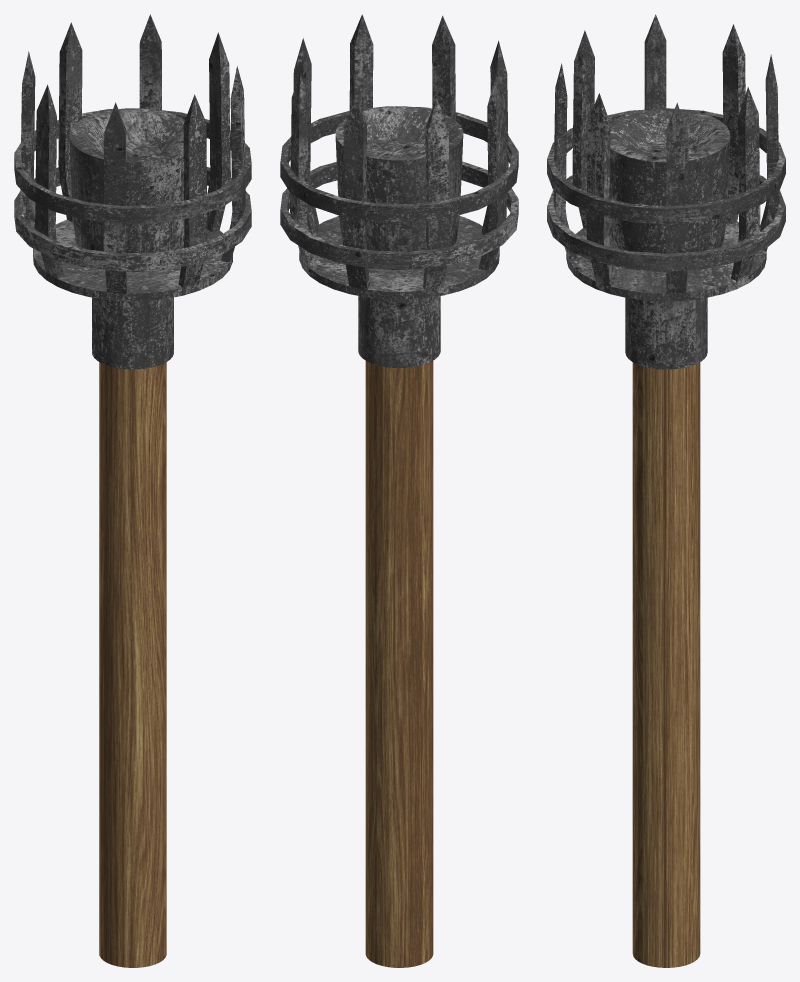
Rendered from heldTorch.fbx.
The picture shows the model from 3 angles, left to right: view 1: azimuth 30°, elevation 25°; view 2: azimuth 150°, elevation 25°; view 3: azimuth 270°, elevation 25°; orthographic projection.
Visible parts, largest first — view 1: Metal, WoodenStick; view 2: Metal, WoodenStick; view 3: Metal, WoodenStick.
Part boxes in pixels (left/top/right/bottom): Metal: left=14, top=14, right=251, bottom=369; WoodenStick: left=99, top=362, right=166, bottom=967; Metal: left=280, top=14, right=518, bottom=367; WoodenStick: left=365, top=361, right=433, bottom=967; Metal: left=547, top=14, right=785, bottom=369; WoodenStick: left=632, top=362, right=700, bottom=967.
Bounding box in the file's own units: 26.81 × 112 × 26.81.
